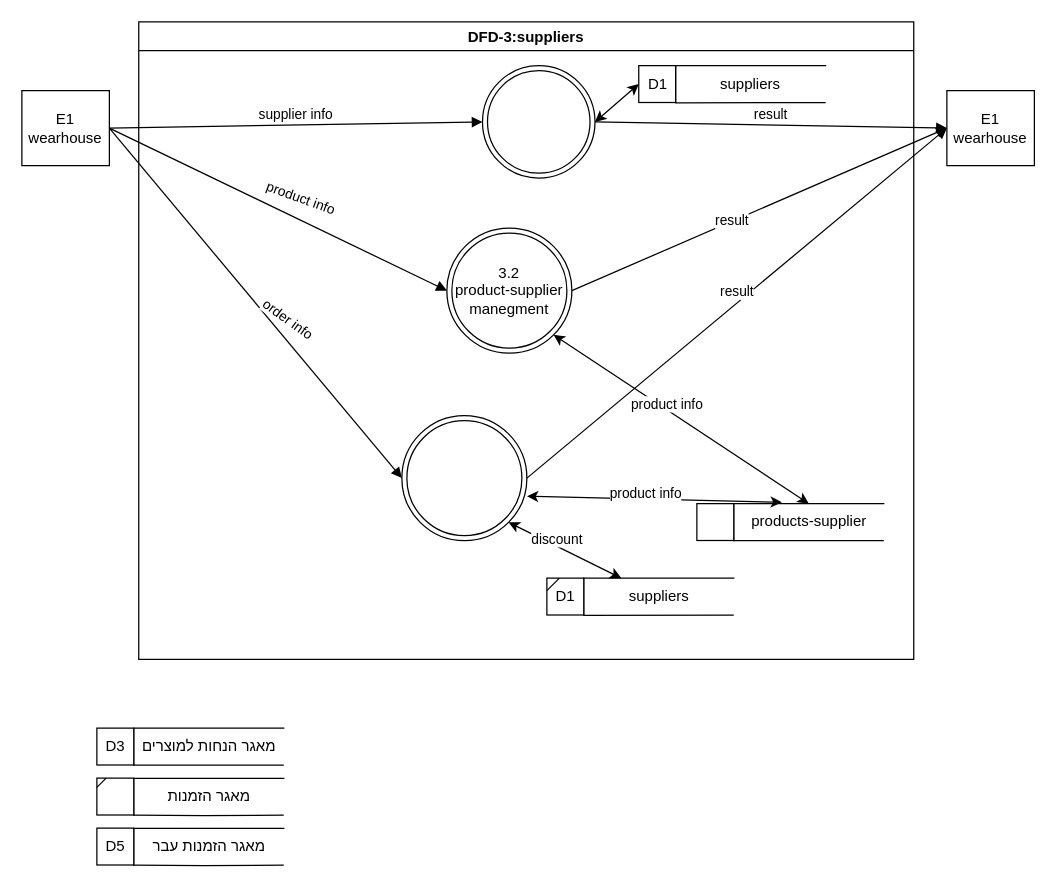
The diagram is 1056 pixels wide and 889 high, and some of its shapes have lost their labels. Each missing label, with the box of its shape:
3.1 supplier manegment: (481, 64, 595, 178)
3.3 supplier's order manegment: (401, 414, 527, 541)
D2: (696, 502, 734, 540)
D4: (96, 777, 134, 815)
